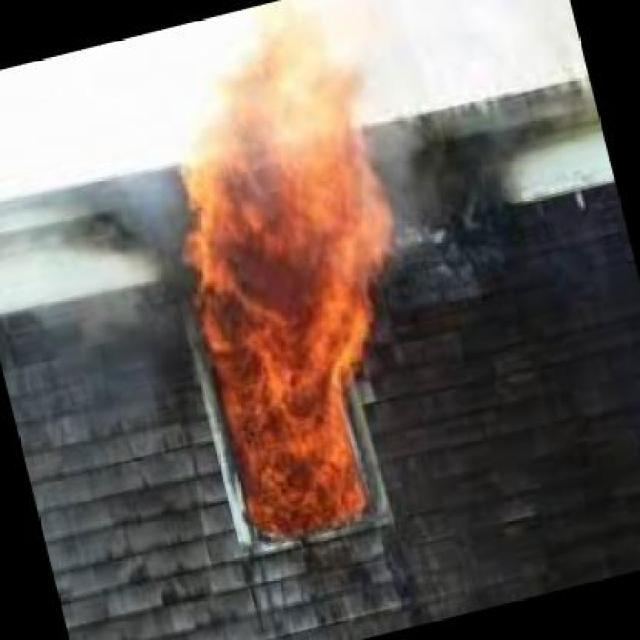Fire: (173, 60, 410, 537)
